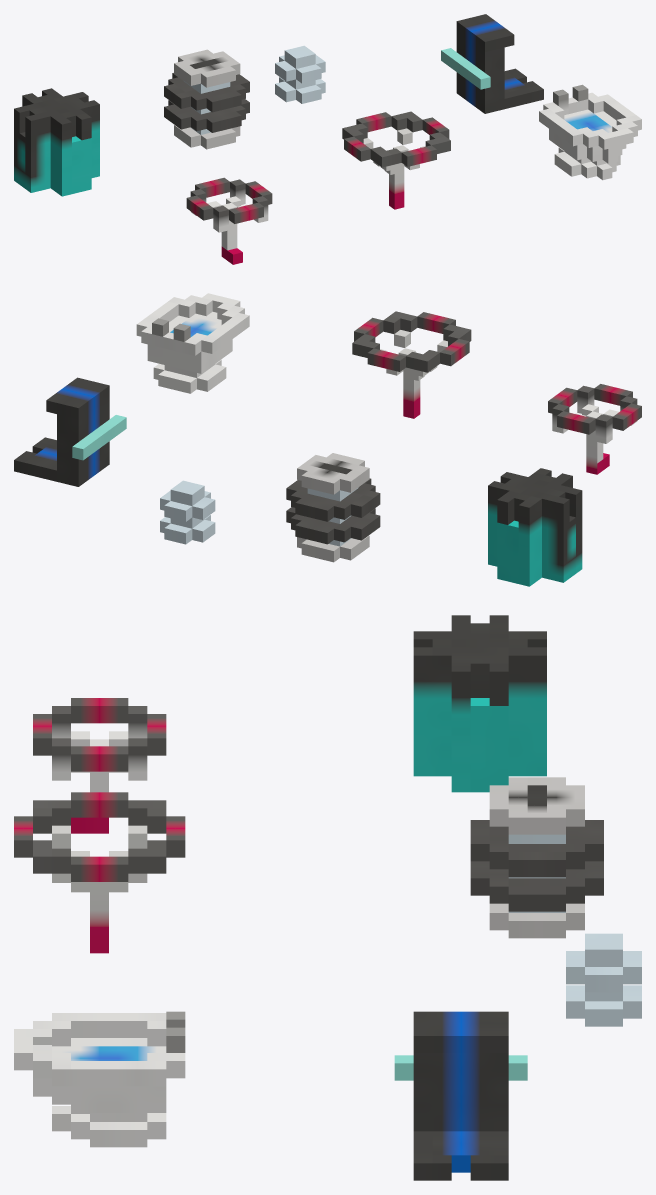
Rendered from parts.dae.
The picture shows the model from 3 angles, top to bottom: view 1: azimuth 30°, elevation 25°; view 2: azimuth 150°, elevation 25°; view 3: azimuth 270°, elevation 25°; orthographic projection. The views are drawn at different scales.
Parts seen in each view (by area): view 1: parts_cylinder_2, parts_cylinder_1, parts_toilet, parts_seat, parts_brokenhandle_2, parts_brokenhandle_1, parts_cylinder3; view 2: parts_cylinder_2, parts_cylinder_1, parts_toilet, parts_seat, parts_brokenhandle_2, parts_brokenhandle_1, parts_cylinder3; view 3: parts_cylinder_2, parts_toilet, parts_cylinder_1, parts_seat, parts_brokenhandle_2, parts_brokenhandle_1, parts_cylinder3.
Boxes of the visible parts, x1,y1,x2,y2 form: parts_cylinder_2: (14,88,99,196); parts_cylinder_1: (164,49,249,149); parts_toilet: (539,84,641,180); parts_seat: (441,14,543,113); parts_brokenhandle_2: (342,111,450,209); parts_brokenhandle_1: (186,177,272,264); parts_cylinder3: (275,45,325,103); parts_cylinder_2: (488,468,582,586); parts_cylinder_1: (286,453,380,562); parts_toilet: (136,293,249,393); parts_seat: (14,377,126,486); parts_brokenhandle_2: (352,311,471,418); parts_brokenhandle_1: (548,384,641,474); parts_cylinder3: (160,480,215,544); parts_cylinder_2: (413,615,546,792); parts_toilet: (14,1011,185,1147); parts_cylinder_1: (470,777,603,938); parts_seat: (394,1011,527,1180); parts_brokenhandle_2: (14,792,185,953); parts_brokenhandle_1: (33,698,166,833); parts_cylinder3: (566,933,641,1026).
Size of the model in its own units: 51 by 9 by 33.
1 material, 1 textured.
